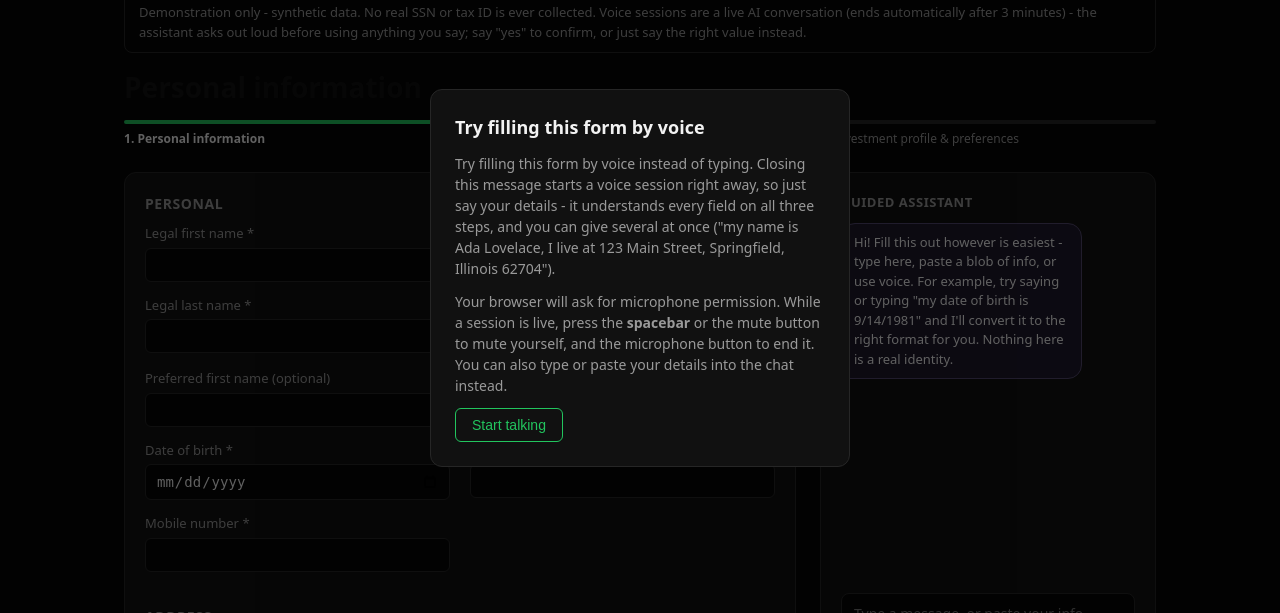
Test case: PersonalInformationPage › step 2 renders the regulatory disclosures and employment/finances groups
Click the button "Start talking".
click(509, 425)  # box [455, 408, 563, 442]
(page scrolled)
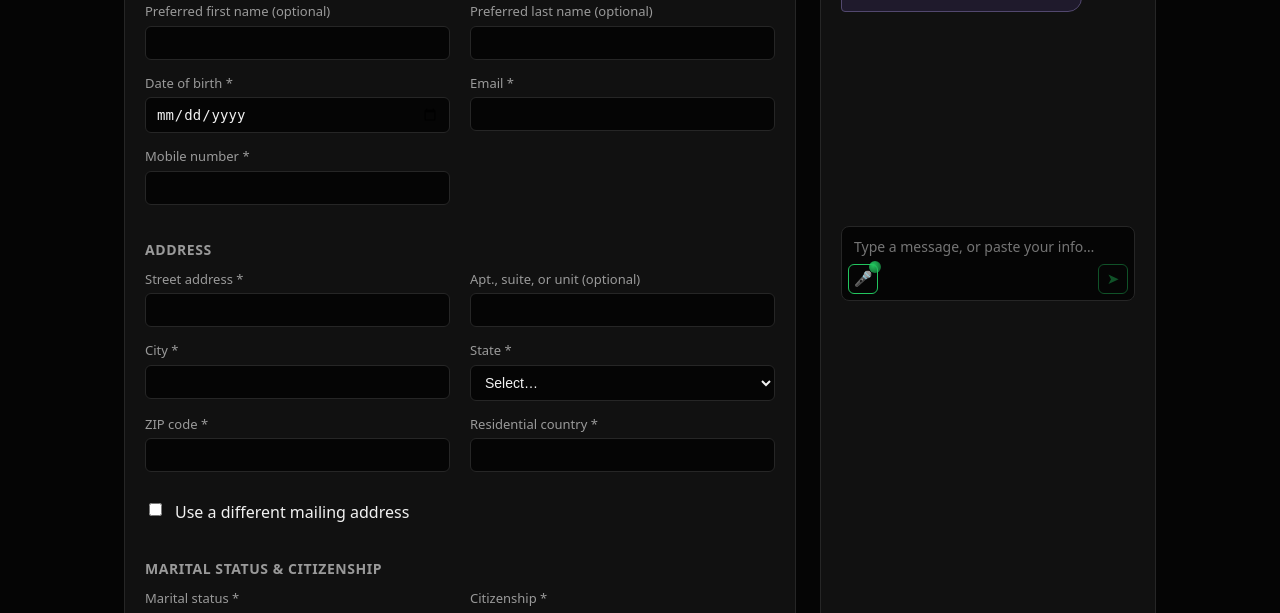
Click the button "🎤".
click(863, 278)  # box [848, 264, 878, 294]
(page scrolled)
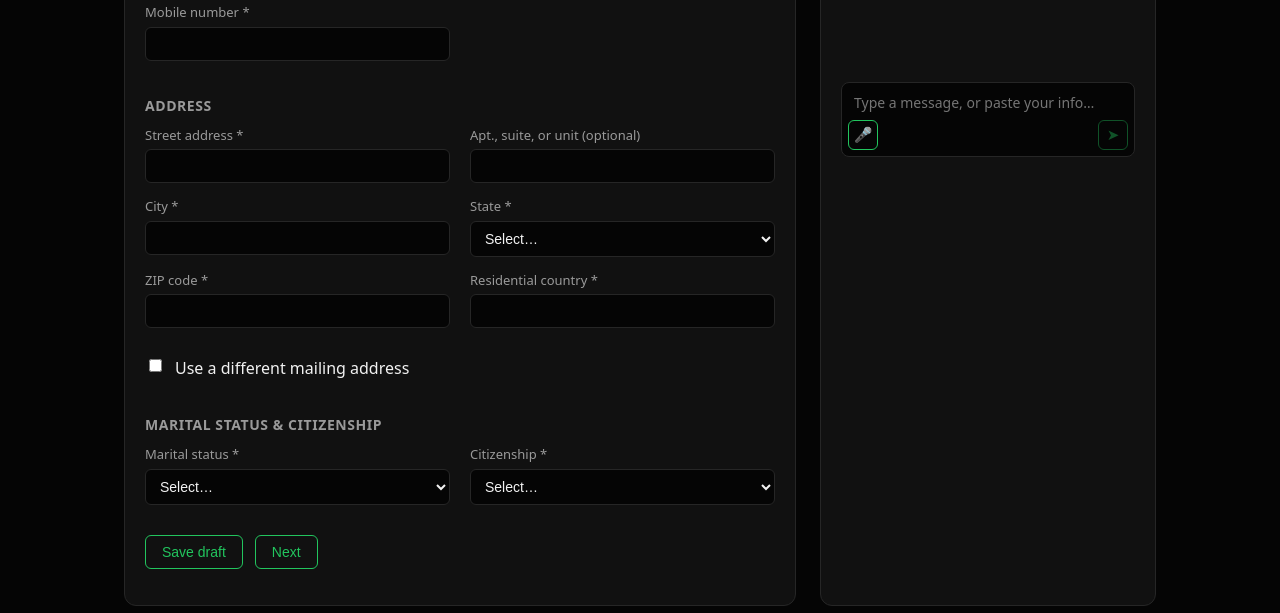
Click the button "Next".
click(286, 552)  # box [255, 534, 318, 568]
(page scrolled)
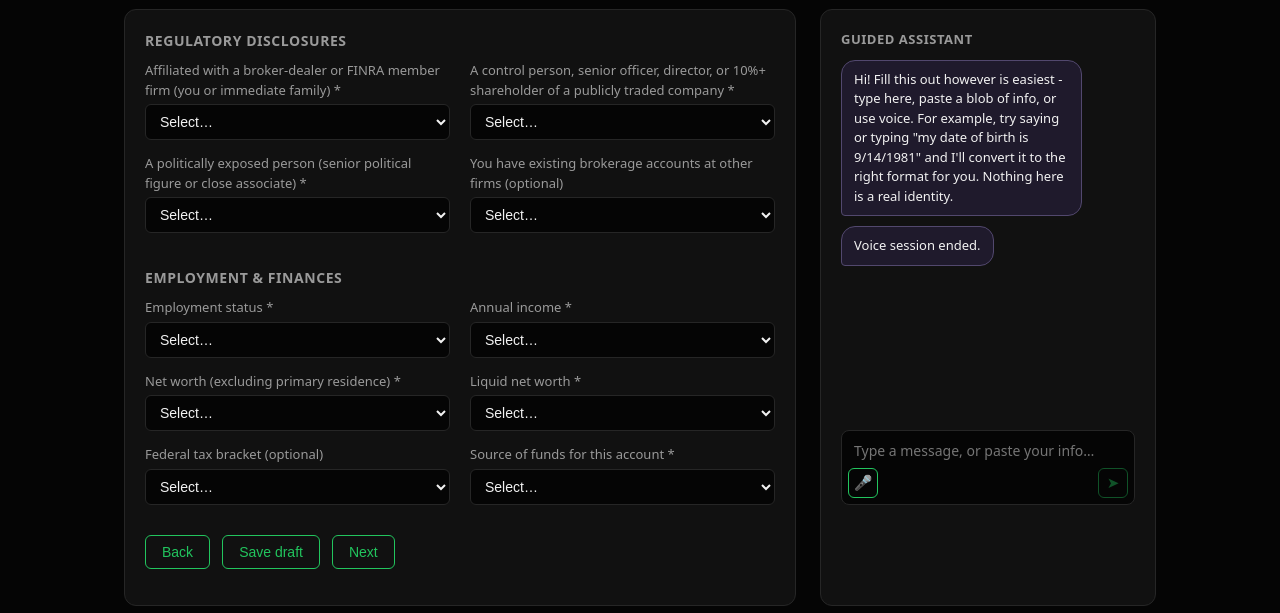
Result: the heading "Regulatory disclosures" is shown at [145, 31, 347, 50]
Result: the heading "Employment & finances" is shown at [145, 268, 342, 287]
Result: the text "Affiliated with a broker-dealer" is shown at [145, 61, 440, 98]
